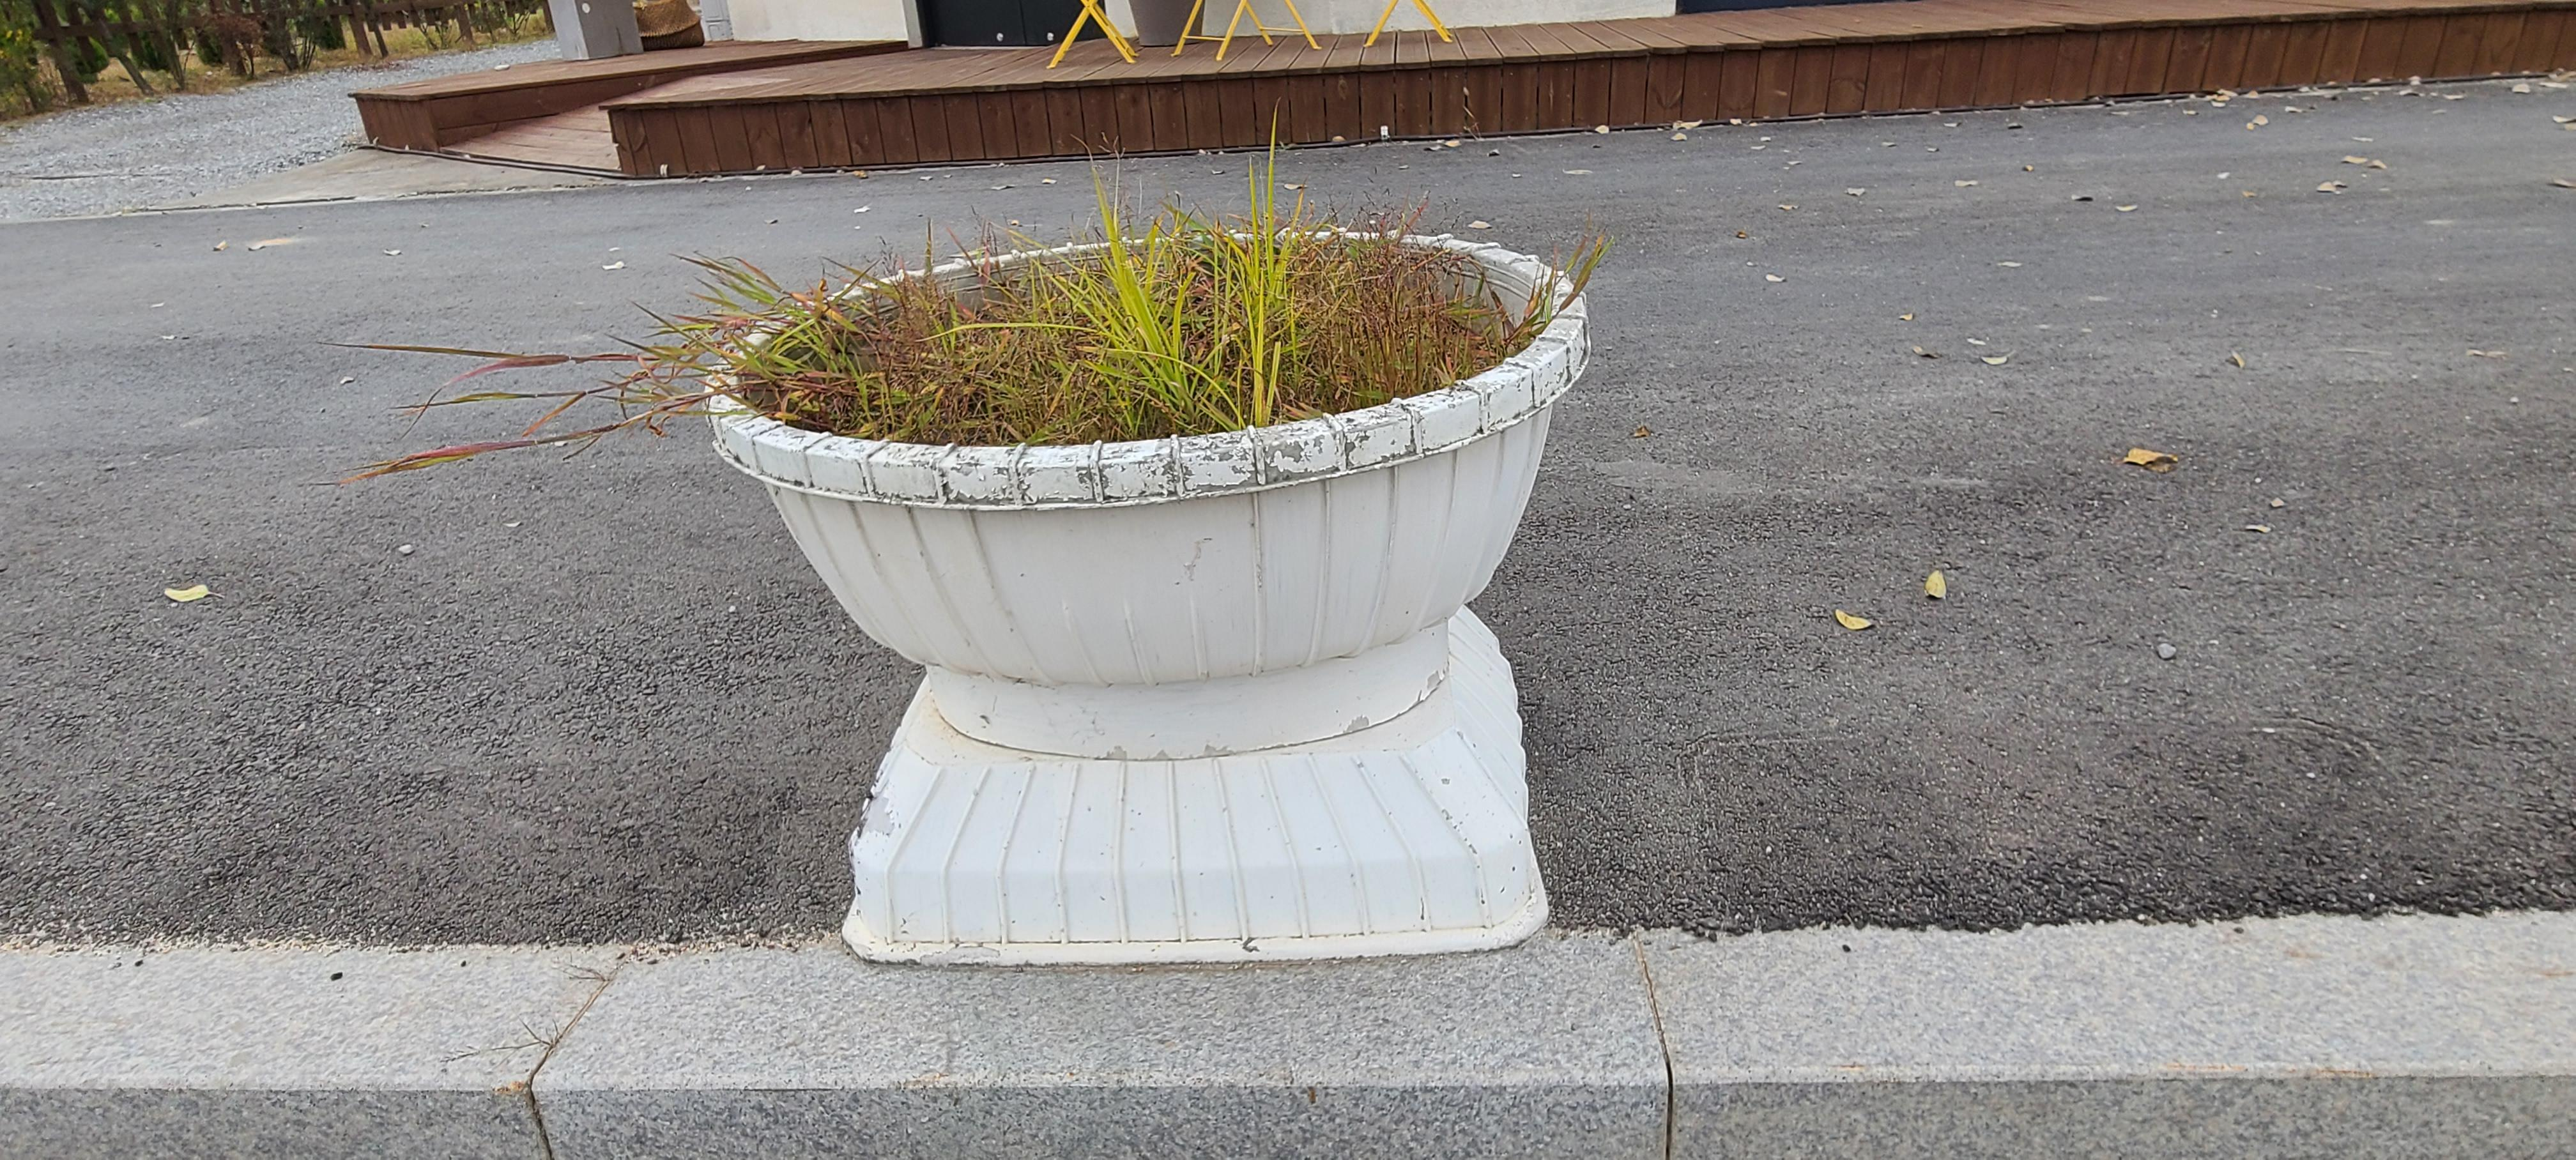flowerPot: (628, 205, 1590, 964)
